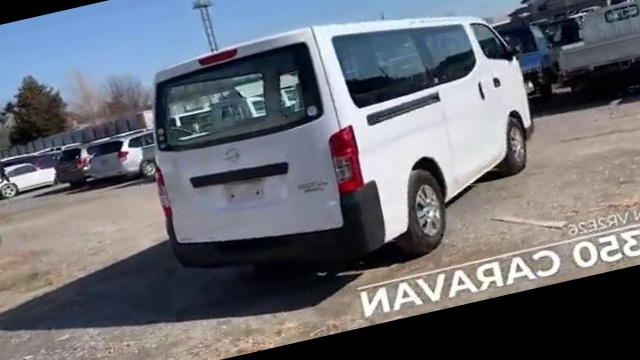van: (129, 0, 557, 293)
